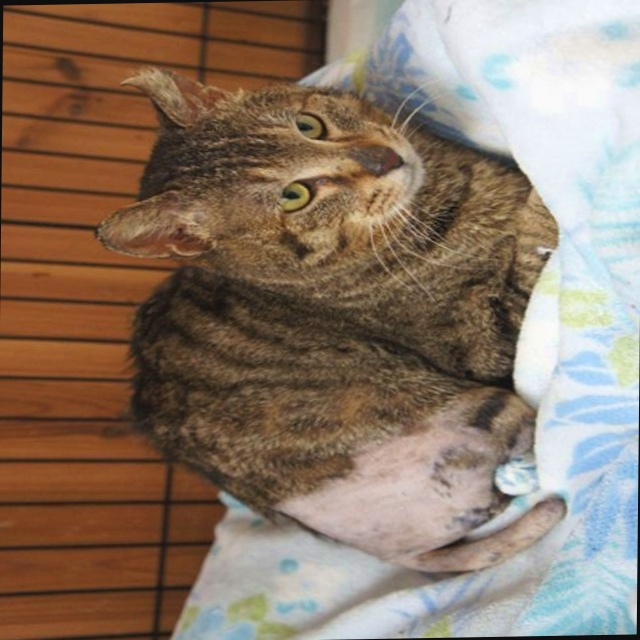hairloss: (286, 426, 514, 558)
